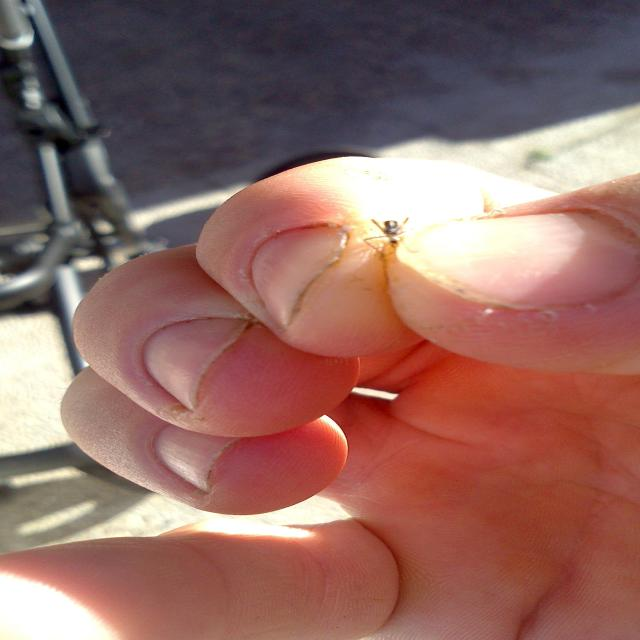albopictus: (358, 214, 426, 257)
